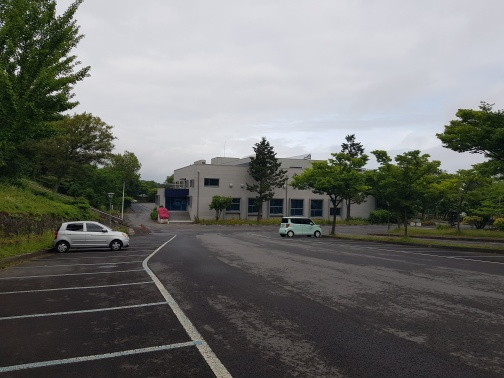College of Social Sciences: (154, 150, 382, 227)
